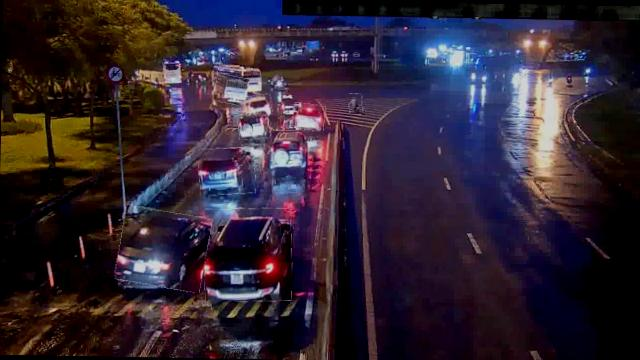Bike: (348, 92, 362, 114)
Car: (202, 207, 292, 302), (117, 208, 209, 291), (198, 146, 256, 195), (271, 130, 308, 173), (238, 109, 270, 141), (293, 103, 325, 131), (245, 94, 272, 116)
Truck: (213, 74, 248, 105)
